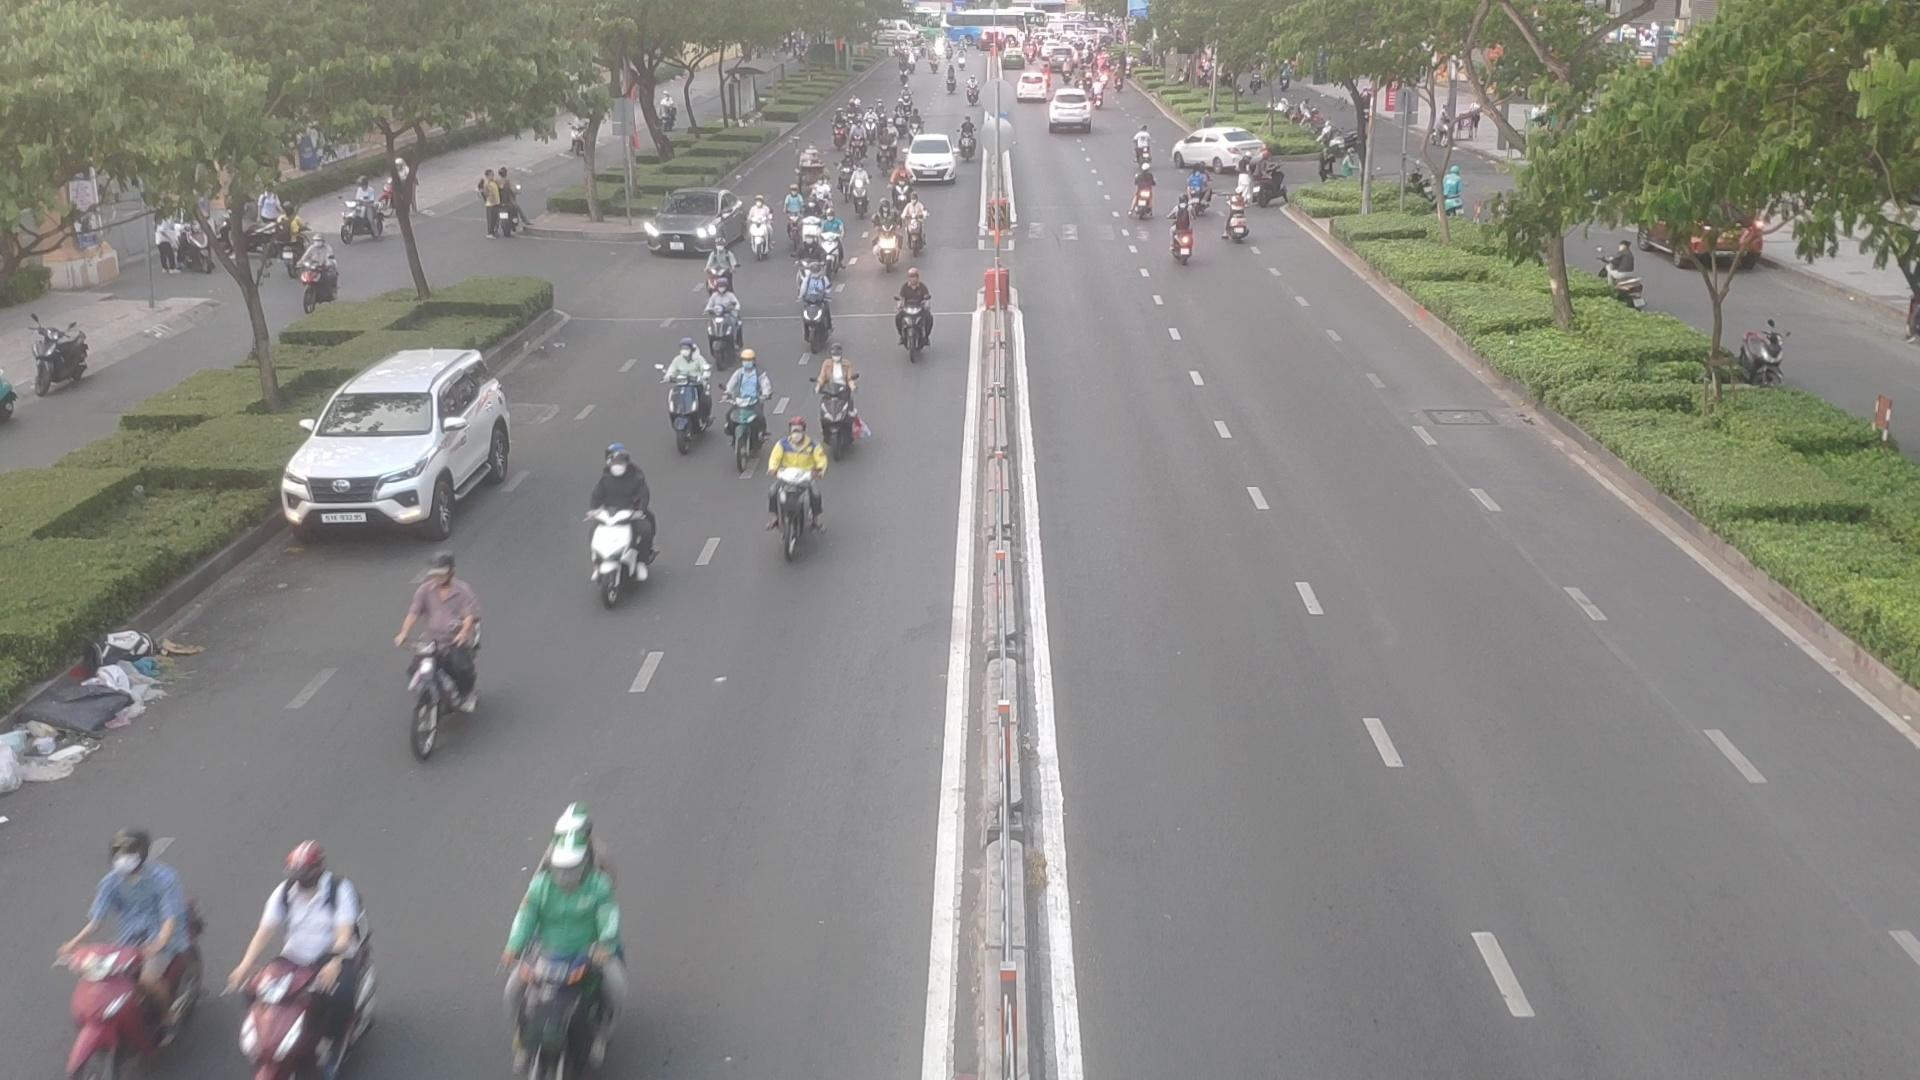car: (278, 345, 520, 539), (640, 190, 746, 258), (1174, 124, 1271, 169), (905, 135, 959, 183)
motorbike: (214, 852, 390, 1080), (61, 831, 196, 1069), (498, 811, 609, 1077), (396, 556, 487, 766), (580, 447, 659, 615), (771, 421, 816, 566), (665, 342, 705, 456), (820, 349, 858, 462), (729, 348, 760, 484), (899, 269, 934, 369), (799, 265, 833, 349), (707, 281, 741, 360), (905, 193, 935, 255), (1220, 186, 1251, 245), (818, 208, 843, 276), (1127, 164, 1156, 219), (1168, 190, 1189, 264), (876, 199, 895, 270), (1182, 167, 1208, 220), (1131, 120, 1155, 164), (752, 198, 770, 253), (803, 200, 822, 251), (852, 165, 868, 218), (957, 113, 975, 157), (889, 167, 906, 210), (785, 183, 796, 244), (849, 123, 866, 162), (839, 156, 851, 202), (877, 137, 890, 177)
